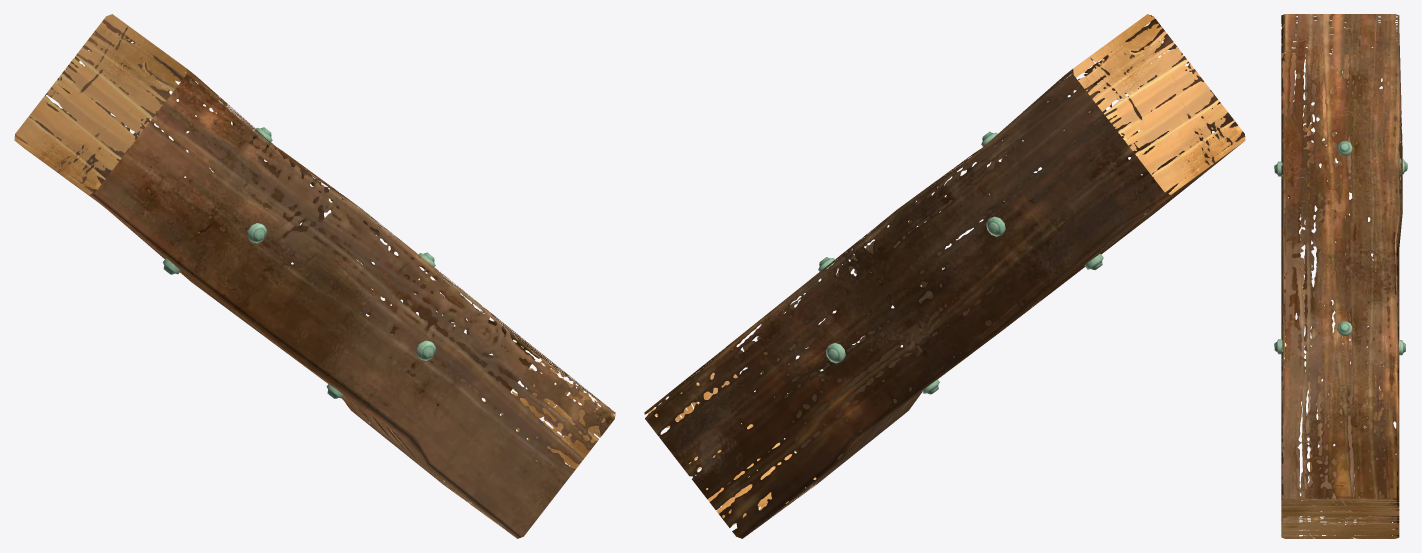
3 views of the same model, side by side, from view 1: azimuth 30°, elevation 25°; view 2: azimuth 150°, elevation 25°; view 3: azimuth 270°, elevation 25° (orthographic). The views are drawn at different scales.
Parts seen in each view (by area): view 1: SM_BB_T4_Beam_Thick_Med_Diagonal_LOD0; view 2: SM_BB_T4_Beam_Thick_Med_Diagonal_LOD0; view 3: SM_BB_T4_Beam_Thick_Med_Diagonal_LOD0.
Part boxes in pixels (x1,y1,x2,y2): SM_BB_T4_Beam_Thick_Med_Diagonal_LOD0: [14, 14, 615, 538]; SM_BB_T4_Beam_Thick_Med_Diagonal_LOD0: [644, 14, 1245, 538]; SM_BB_T4_Beam_Thick_Med_Diagonal_LOD0: [1274, 14, 1407, 538].
Bounding box in the file's own units: 1.85 × 1.85 × 0.5492.
2 materials, 2 textured.
